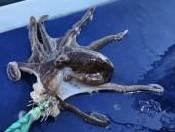Cephalopod: (7, 5, 164, 127)
